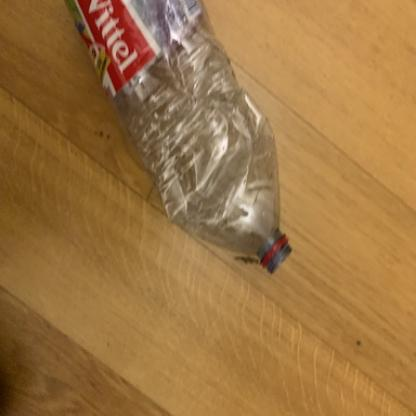trash: (63, 2, 297, 278)
